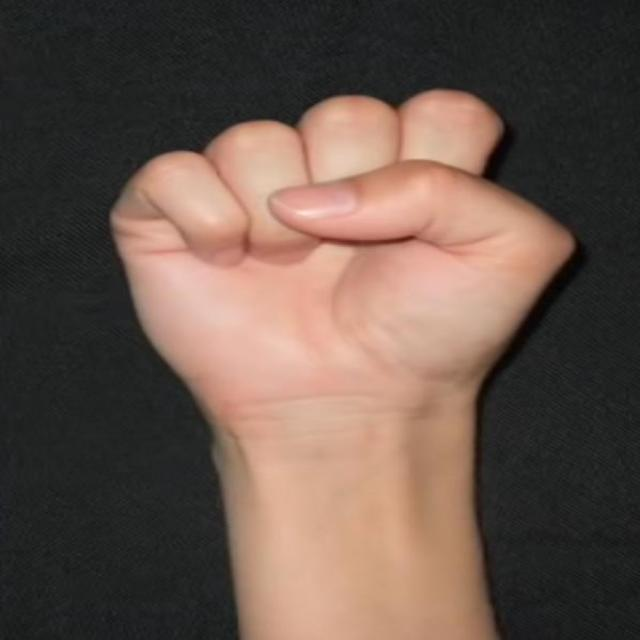S: (95, 83, 582, 432)
